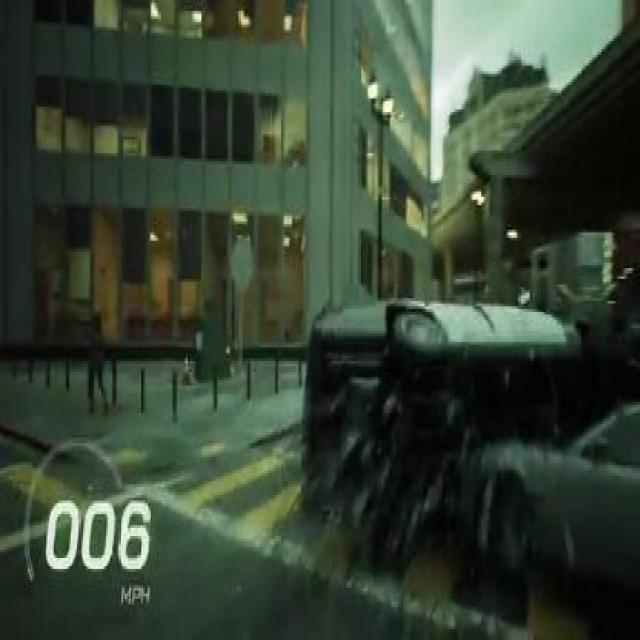accident: (297, 282, 640, 621)
